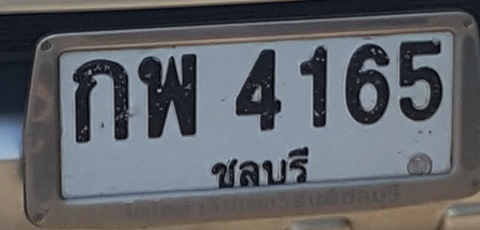txt01: (69, 57, 132, 144)
txt25: (136, 52, 199, 140)
